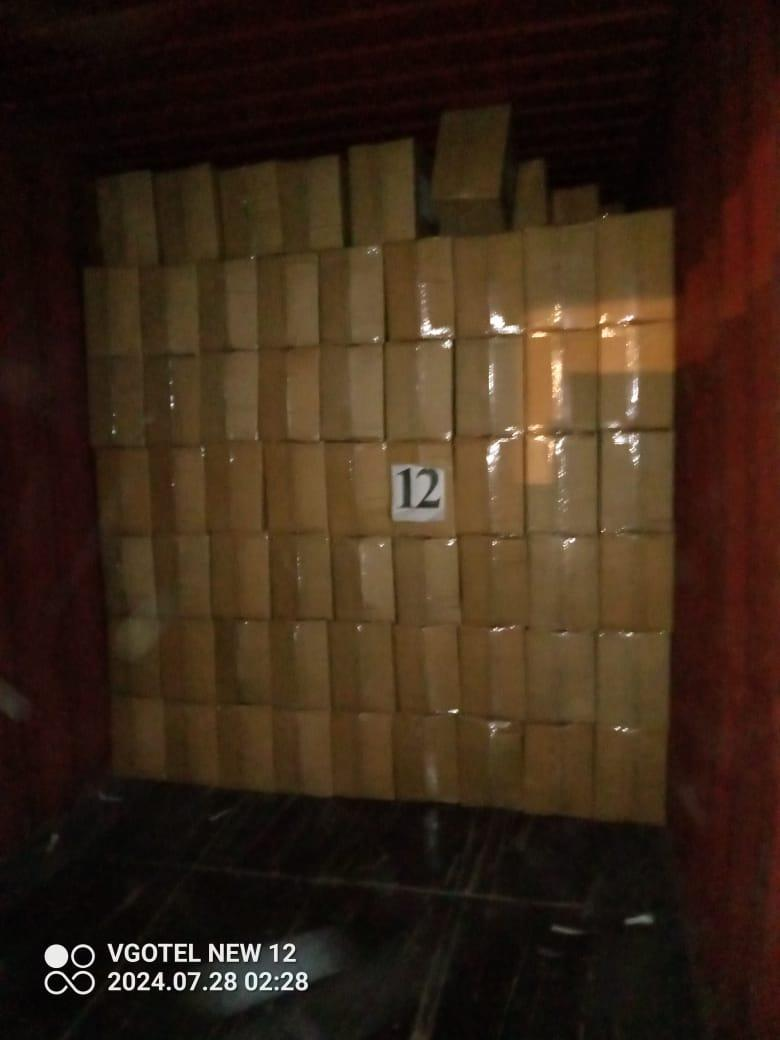carton: (432, 105, 511, 235), (597, 210, 675, 326), (598, 321, 675, 430), (525, 329, 603, 433), (523, 222, 597, 330), (453, 233, 526, 338), (599, 431, 674, 532), (383, 237, 455, 342), (348, 138, 418, 246), (599, 533, 674, 632), (596, 631, 670, 731), (525, 434, 598, 535), (593, 726, 667, 825), (454, 336, 525, 437), (454, 437, 526, 536), (384, 339, 453, 442), (528, 534, 599, 631), (386, 441, 456, 538), (154, 164, 221, 265), (523, 722, 594, 817), (457, 714, 526, 810), (318, 344, 385, 442), (319, 245, 385, 344), (526, 630, 596, 723), (459, 624, 526, 721), (278, 155, 344, 253), (218, 161, 284, 258), (459, 535, 529, 626), (328, 621, 396, 714), (393, 624, 461, 715), (96, 170, 159, 268), (256, 252, 320, 348), (257, 347, 321, 442), (393, 537, 461, 626), (202, 442, 267, 534), (263, 442, 328, 533), (393, 713, 459, 802), (325, 443, 388, 536), (270, 619, 331, 713), (270, 533, 334, 621), (197, 259, 258, 351), (140, 263, 201, 355), (331, 712, 395, 799), (272, 708, 334, 797), (331, 536, 395, 622), (200, 351, 259, 444), (143, 355, 203, 446), (210, 531, 271, 619), (87, 356, 145, 448), (83, 267, 142, 357), (214, 618, 273, 706), (95, 447, 153, 535), (149, 447, 207, 534), (153, 534, 212, 618), (160, 618, 217, 704), (217, 705, 274, 791), (108, 615, 164, 700), (111, 695, 167, 779), (101, 536, 158, 618), (164, 703, 219, 786)
